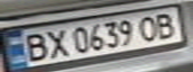0: (69, 24, 90, 54)
3: (103, 19, 124, 49)
6: (87, 20, 109, 52)
9: (115, 17, 139, 46)
B: (18, 30, 51, 63), (151, 10, 178, 39)
O: (136, 12, 163, 43)
X: (42, 27, 72, 60)
